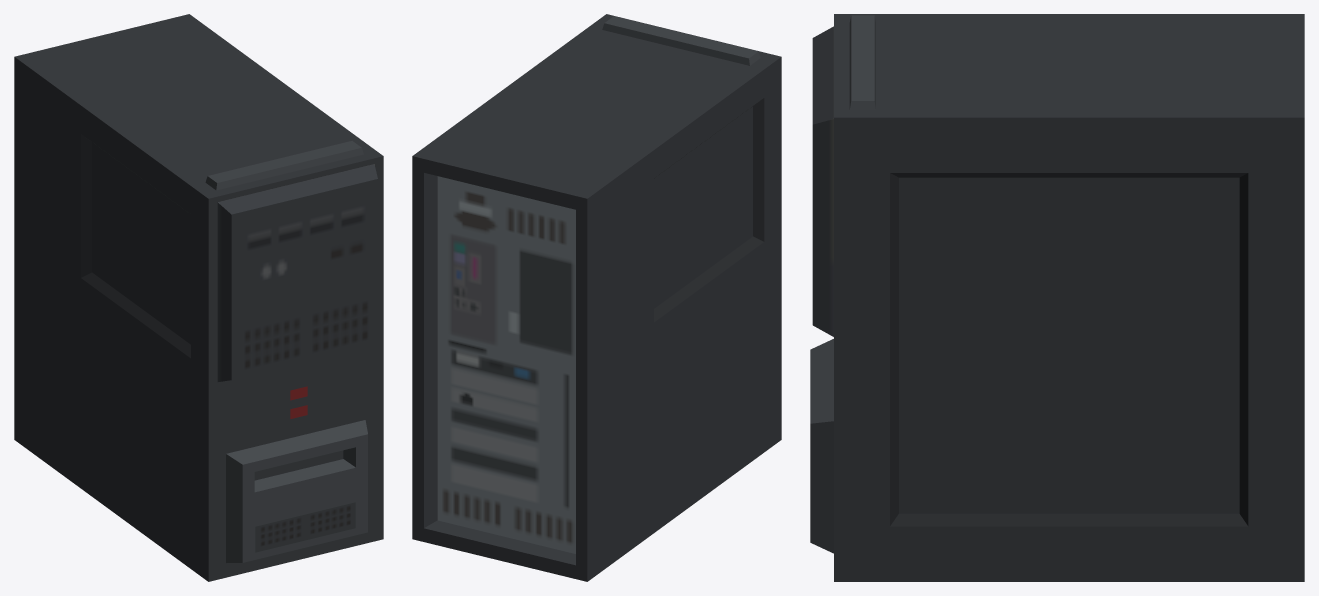
Rendered from SM_Prop_Computer_Tower_02.glb.
3 views of the same model, side by side, from view 1: azimuth 30°, elevation 25°; view 2: azimuth 150°, elevation 25°; view 3: azimuth 270°, elevation 25° (orthographic). The views are drawn at different scales.
Visible parts, largest first — view 1: SM_Prop_Computer_Tower_02; view 2: SM_Prop_Computer_Tower_02; view 3: SM_Prop_Computer_Tower_02.
Boxes of the visible parts, <box> form: SM_Prop_Computer_Tower_02: <box>14,14,383,581</box>; SM_Prop_Computer_Tower_02: <box>412,14,781,581</box>; SM_Prop_Computer_Tower_02: <box>810,14,1304,581</box>.
Bounding box in the file's own units: 0.2612 × 0.5557 × 0.5267.
Materials: 1 (1 with a texture image).
